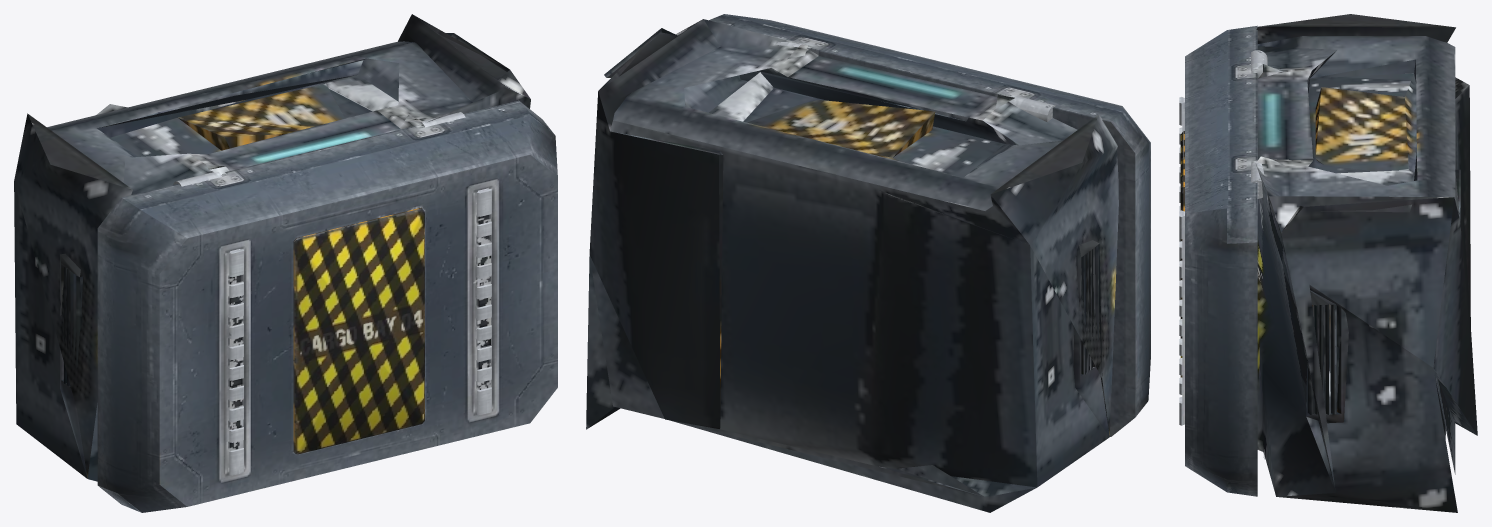
The model's file is sci_fi_crate_LOD2.glb.
3 views of the same model, side by side, from view 1: azimuth 30°, elevation 25°; view 2: azimuth 150°, elevation 25°; view 3: azimuth 270°, elevation 25° (orthographic). The views are drawn at different scales.
Visible parts, largest first — view 1: lid_mesh, SM_sci_fi_crate_Body; view 2: SM_sci_fi_crate_Body, lid_mesh; view 3: SM_sci_fi_crate_Body, lid_mesh.
Boxes of the visible parts, left/top/right/bottom form: lid_mesh: left=97, top=100, right=557, bottom=512; SM_sci_fi_crate_Body: left=14, top=14, right=530, bottom=481; SM_sci_fi_crate_Body: left=586, top=19, right=1118, bottom=512; lid_mesh: left=709, top=14, right=1150, bottom=436; SM_sci_fi_crate_Body: left=1254, top=14, right=1477, bottom=512; lid_mesh: left=1179, top=25, right=1267, bottom=496.
Size of the model in its own units: 0.9029 by 0.6408 by 0.5571.
3 materials, 2 textured.
